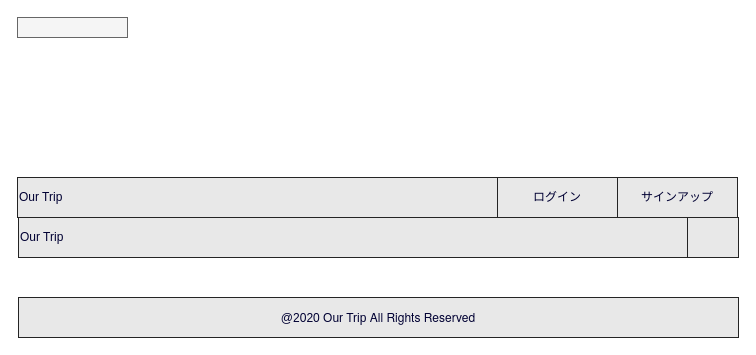
Image size: 756x355. Some labels were removed from this diagram. The box of each missing label's shape, as (x1, y1, x2, y2) in pixels:
アイコン: (686, 216, 738, 258)
全画面に表示する: (16, 16, 128, 38)
